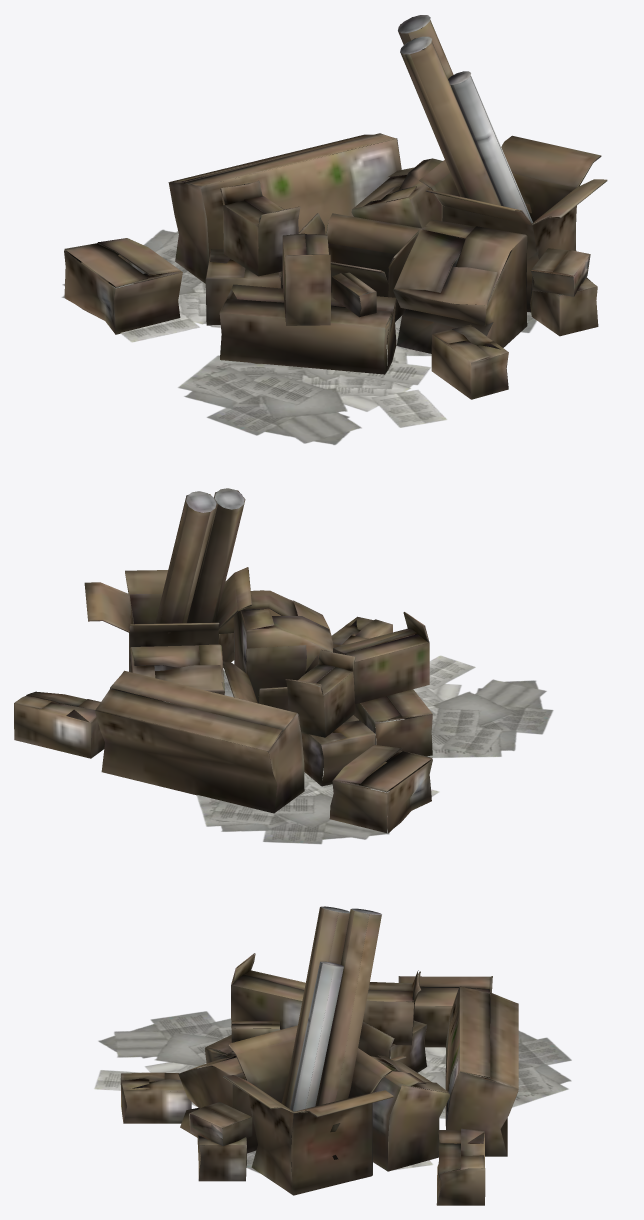
File: boxes_far.glb
The picture shows the model from 3 angles, top to bottom: view 1: azimuth 30°, elevation 25°; view 2: azimuth 150°, elevation 25°; view 3: azimuth 270°, elevation 25°; orthographic projection. The views are drawn at different scales.
Parts seen in each view (by area): view 1: baked, clear; view 2: baked, clear; view 3: baked, clear.
Part boxes in pixels (x1=…): baked: x1=64, y1=15, x2=607, y2=399; clear: x1=62, y1=229, x2=536, y2=444; baked: x1=14, y1=488, x2=432, y2=833; clear: x1=196, y1=655, x2=553, y2=844; baked: x1=120, y1=906, x2=518, y2=1205; clear: x1=94, y1=1011, x2=571, y2=1173.
Bounding box in the file's own units: 3.68 × 1.78 × 4.22.
Materials: 2 (2 with a texture image).
